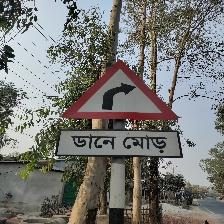Right-turn: (57, 59, 183, 156)
